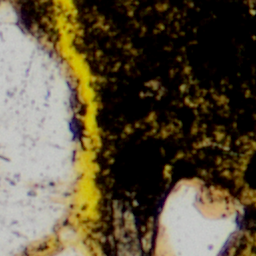cement_matrix: (75, 0, 255, 255), (17, 0, 55, 38), (116, 212, 133, 238), (73, 105, 83, 136)
cracks: (0, 0, 103, 255), (22, 235, 62, 255), (72, 104, 84, 137), (242, 252, 255, 255), (252, 239, 255, 242)
gravel_crushed_stones: (0, 3, 87, 255), (160, 184, 234, 255), (117, 213, 132, 237), (120, 242, 138, 255)
